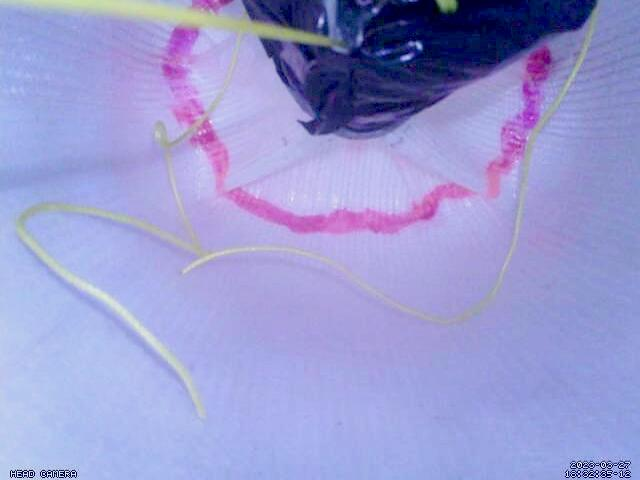head: (160, 1, 558, 235)
